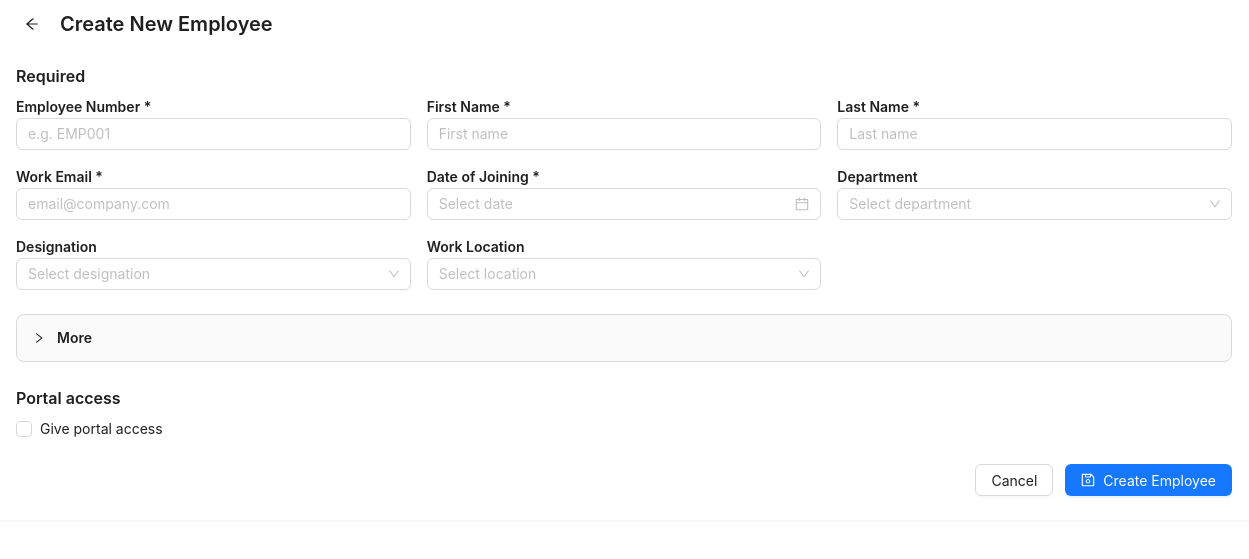
Scenario: EmployeeCreate component › blocks submit and names every missing required field
Click the button "Create Employee" at (1149, 480), box [1065,464,1232,496]
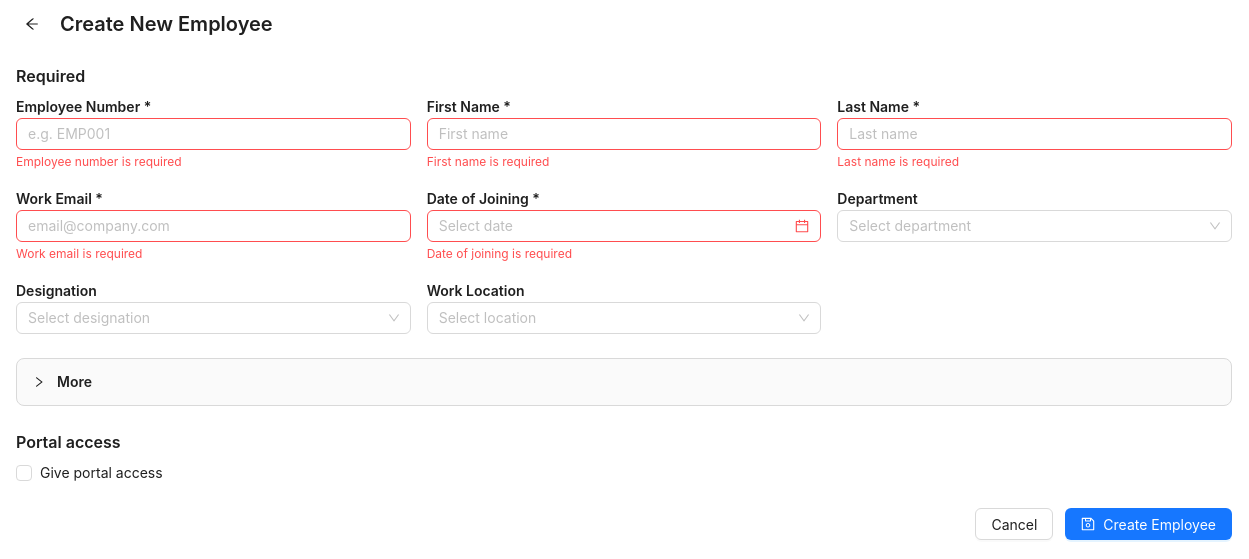
Expected: the text "Employee number is required" is shown, [16,154,182,169]
Expected: the text "First name is required" is shown, [427,154,550,169]
Expected: the text "Last name is required" is shown, [837,154,959,169]
